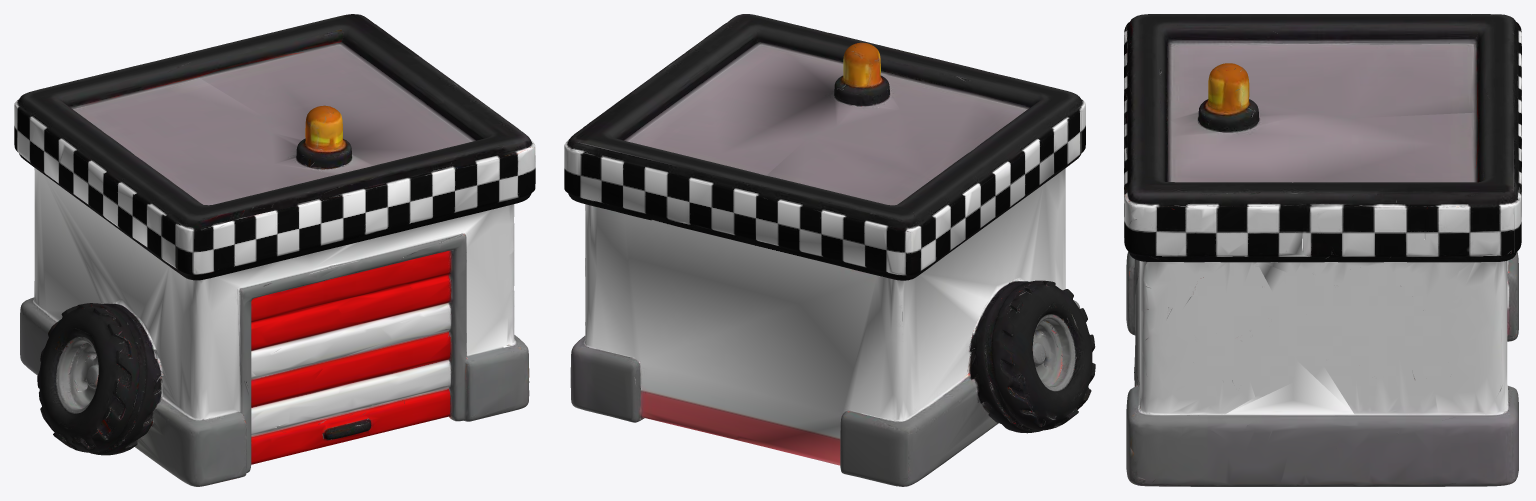
The model's file is house-racers.glb.
3 renders of one model, left to right at view 1: azimuth 30°, elevation 25°; view 2: azimuth 150°, elevation 25°; view 3: azimuth 270°, elevation 25°, orthographic. The views are drawn at different scales.
Parts seen in each view (by area): view 1: Mesh_0; view 2: Mesh_0; view 3: Mesh_0.
Boxes of the visible parts, left/top/right/bottom form: Mesh_0: left=14, top=14, right=535, bottom=486; Mesh_0: left=564, top=14, right=1095, bottom=486; Mesh_0: left=1124, top=14, right=1521, bottom=486.
Size of the model in its own units: 1.91 by 1.38 by 1.46.
Materials: 1 (1 with a texture image).
